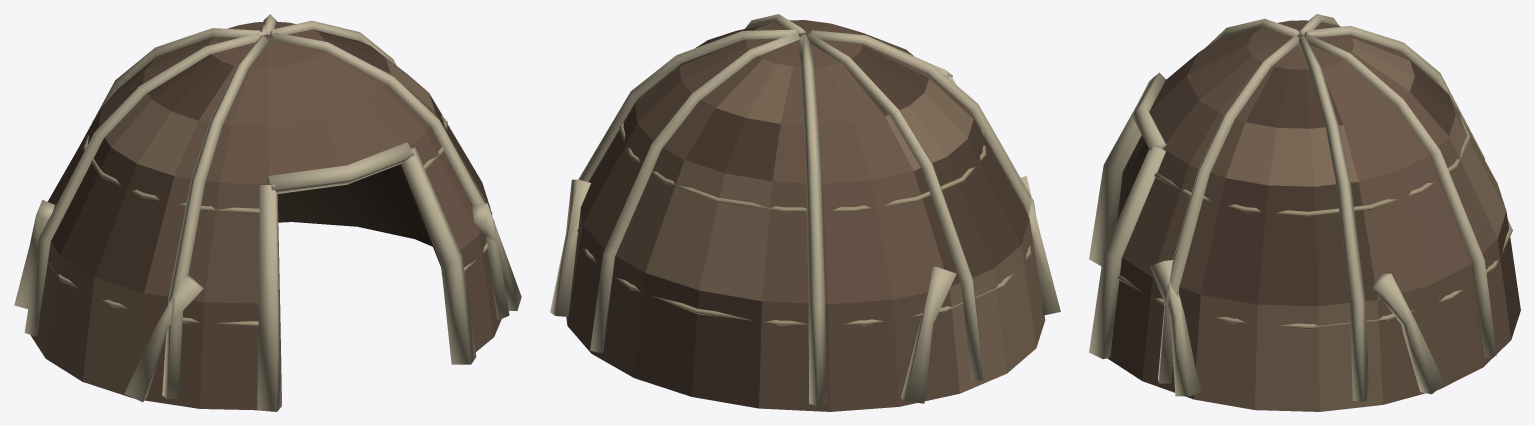
The model's file is bone_hide_shelter_lod1.glb.
3 views of the same model, side by side, from view 1: azimuth 30°, elevation 25°; view 2: azimuth 150°, elevation 25°; view 3: azimuth 270°, elevation 25° (orthographic). The views are drawn at different scales.
Visible parts, largest first — view 1: bone_hide_shelter_lod1; view 2: bone_hide_shelter_lod1; view 3: bone_hide_shelter_lod1.
Boxes of the visible parts, left/top/right/bottom form: bone_hide_shelter_lod1: left=14, top=14, right=521, bottom=411; bone_hide_shelter_lod1: left=550, top=14, right=1060, bottom=411; bone_hide_shelter_lod1: left=1089, top=14, right=1520, bottom=411.
Bounding box in the file's own units: 2.95 × 1.88 × 2.65.
